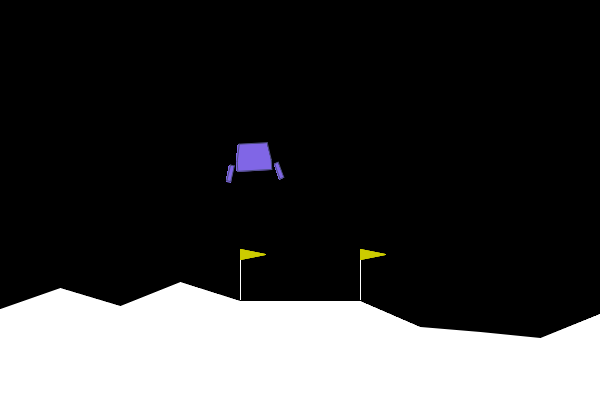lander: (223, 140, 285, 183)
